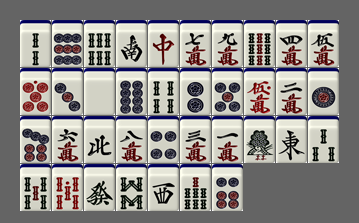0m: (244, 68, 275, 115)
0p: (20, 68, 51, 115)
0s: (52, 164, 83, 211)
1m: (212, 116, 243, 163)
1p: (308, 68, 339, 115)
1s: (244, 116, 275, 163)
1z: (276, 116, 307, 163)
2m: (276, 68, 307, 115)
2p: (180, 68, 211, 115)
2s: (20, 20, 51, 67)
2z: (116, 20, 147, 67)
3m: (180, 116, 211, 163)
3p: (52, 68, 83, 115)
3s: (308, 116, 339, 163)
3z: (148, 164, 179, 211)
4m: (276, 20, 307, 67)
4p: (148, 116, 179, 163)
4s: (148, 68, 179, 115)
4z: (84, 116, 115, 163)
5m: (308, 20, 339, 67)
5p: (212, 68, 243, 115)
5s: (20, 164, 51, 211)
5z: (84, 68, 115, 115)
6m: (52, 116, 83, 163)
6p: (212, 164, 243, 211)
6s: (84, 20, 115, 67)
6z: (84, 164, 115, 211)
7m: (180, 20, 211, 67)
7p: (20, 116, 51, 163)
7s: (180, 164, 211, 211)
7z: (148, 20, 179, 67)
8m: (116, 116, 147, 163)
8p: (116, 68, 147, 115)
8s: (116, 164, 147, 211)
9m: (212, 20, 243, 67)
9p: (52, 20, 83, 67)
9s: (244, 20, 275, 67)
